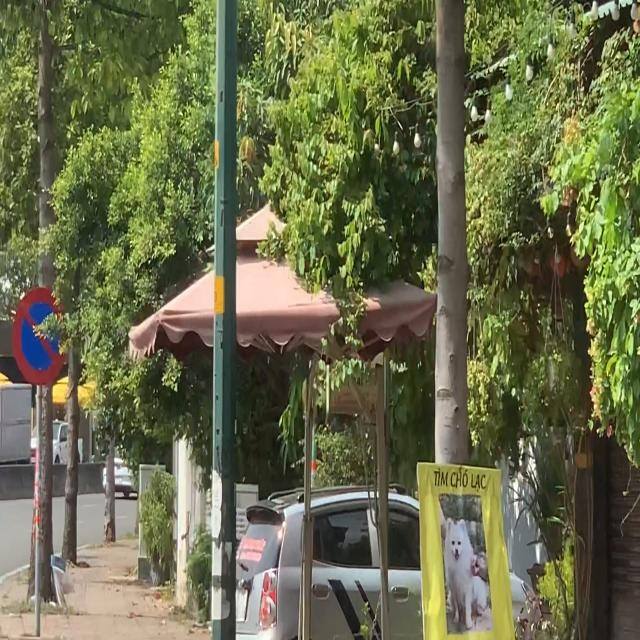bien_cam: (12, 287, 67, 385)
